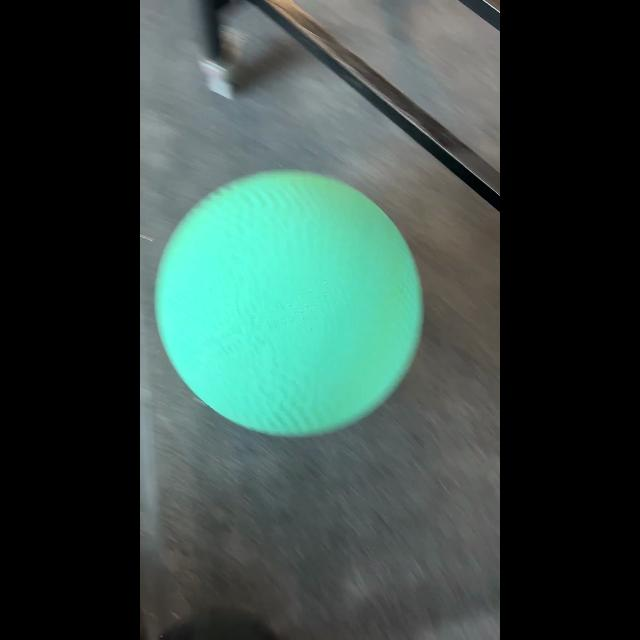ALGAE: (153, 168, 424, 438)
